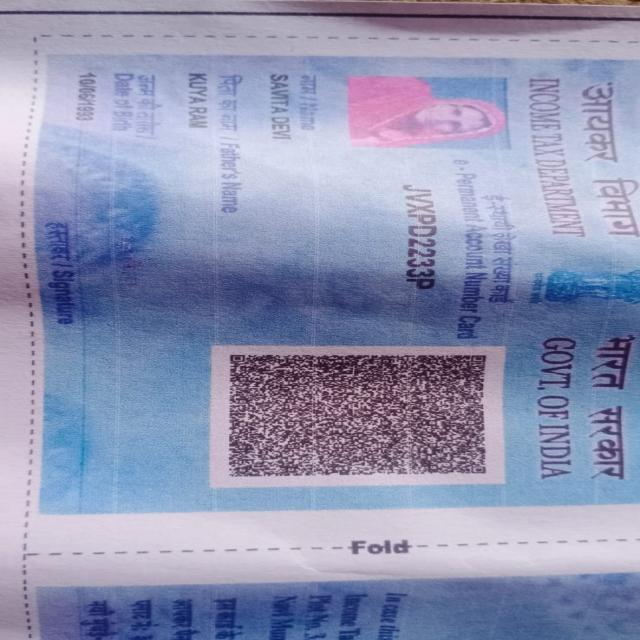pan_card: (118, 1, 640, 274)
